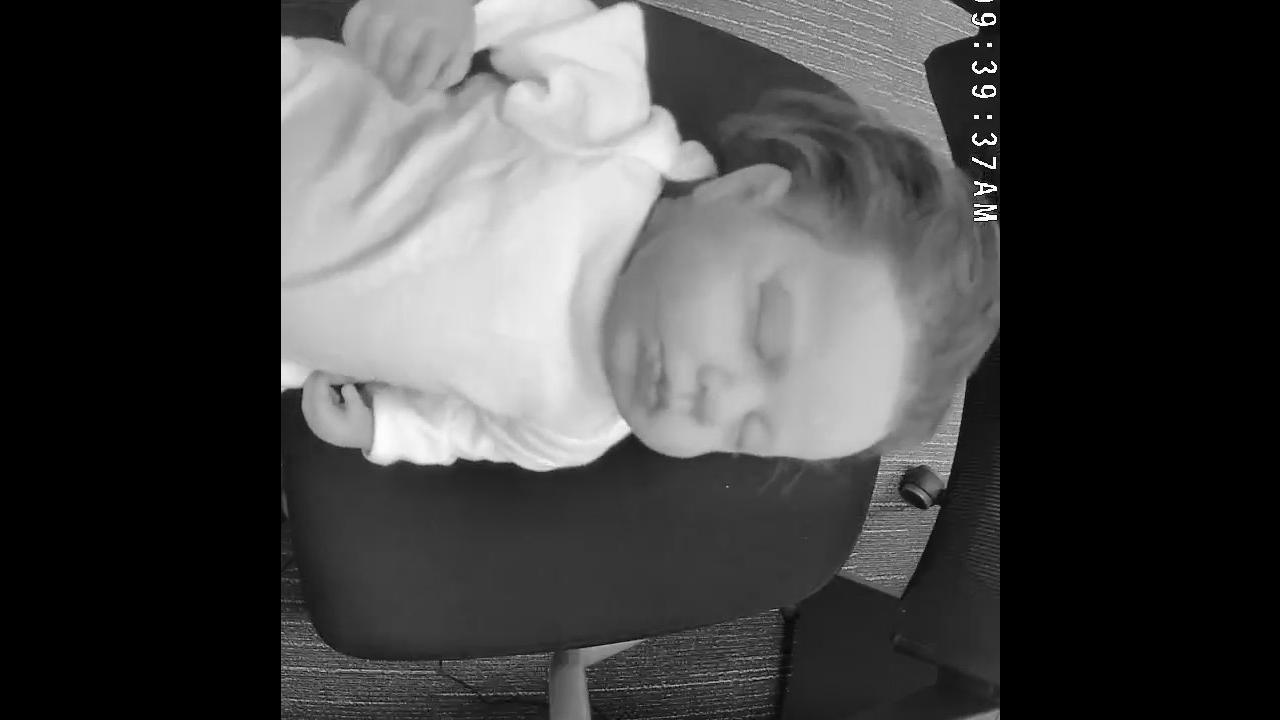hand: (339, 0, 474, 104), (301, 372, 369, 450)
